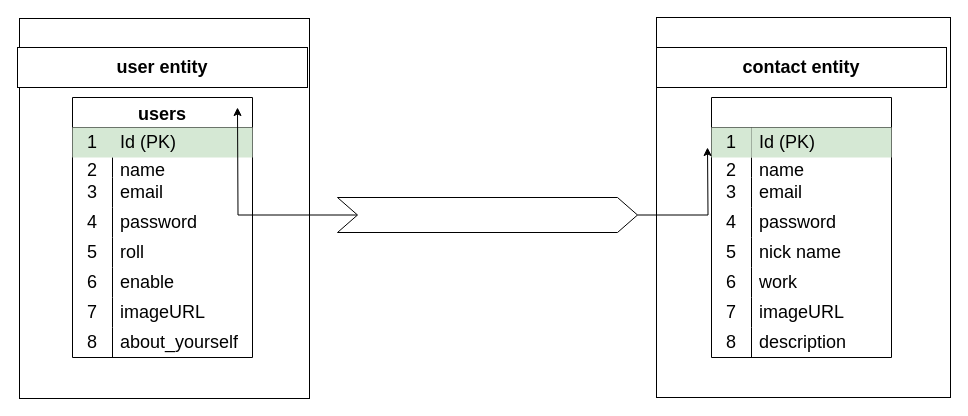
Some shapes in this 968 by 416 pixel diagram are drawn without their labels. The shapes that lost their labels are listed below. From the top down, each one's box as (x1, y1, x2, y2) in pixels, then its label:
(336, 196, 638, 232): one user have many contacts
(710, 96, 892, 358): contacts
